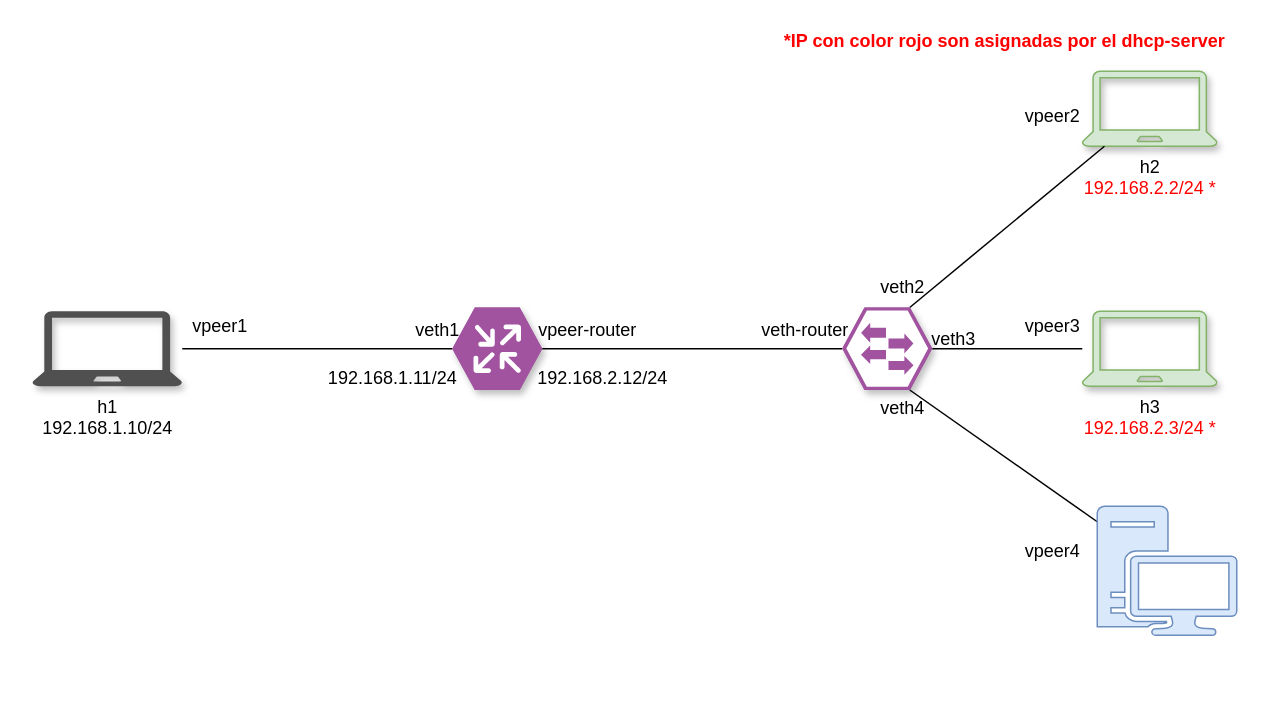
Some shapes in this 1263 by 714 pixel diagram are drawn without their labels. The shapes that lost their labels are listed below. From the top down, each one's centre as x and y in pixels, then its label:
At [498,350]: "r1".
At [1166,570]: "dhcp-server 192.168.2.13/24".
